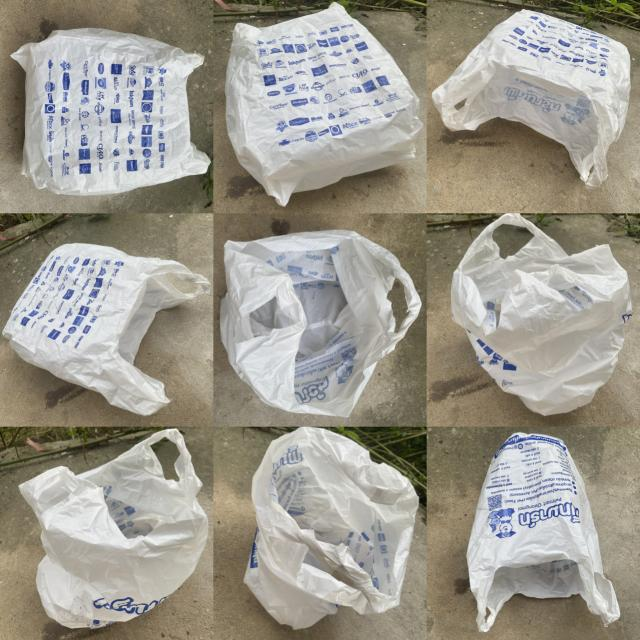Single-layer Plastic: (225, 5, 422, 206), (19, 429, 209, 629), (221, 231, 420, 416), (451, 214, 632, 415), (2, 244, 210, 415), (432, 10, 630, 188), (244, 428, 418, 629), (11, 29, 210, 194), (466, 432, 620, 631)
